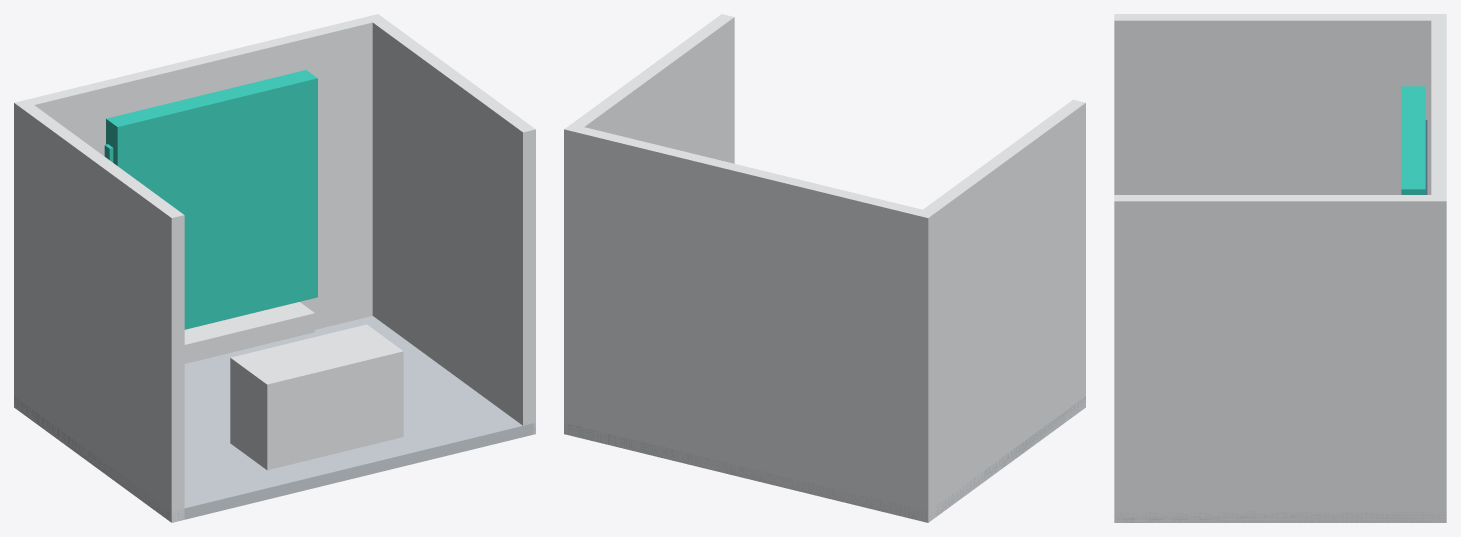
The picture shows the model from 3 angles, left to right: view 1: azimuth 30°, elevation 25°; view 2: azimuth 150°, elevation 25°; view 3: azimuth 270°, elevation 25°; orthographic projection. The views are drawn at different scales.
Parts seen in each view (by area): view 1: Exhibition Booth Concept; view 2: Exhibition Booth Concept; view 3: Exhibition Booth Concept.
Part boxes in pixels (box(x1,y1,x2,y2)): Exhibition Booth Concept: box(14, 14, 535, 522); Exhibition Booth Concept: box(564, 14, 1085, 522); Exhibition Booth Concept: box(1114, 14, 1446, 522).
Size of the model in its own units: 4 by 3.2 by 3.
